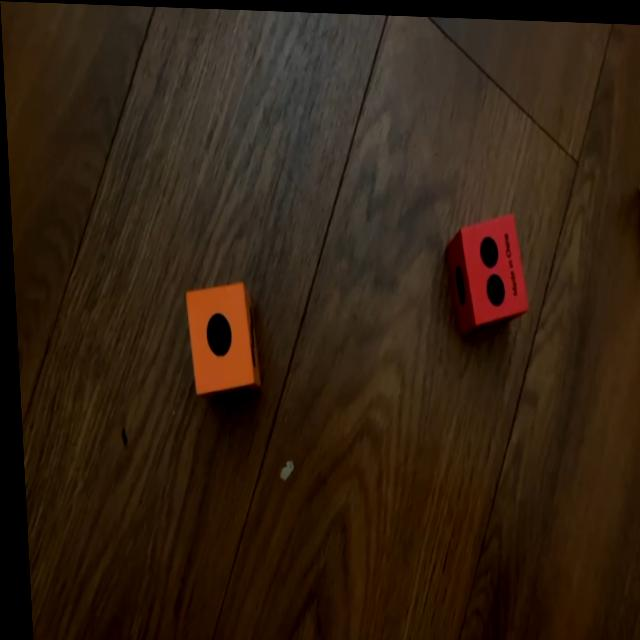red_block: (441, 209, 526, 330)
